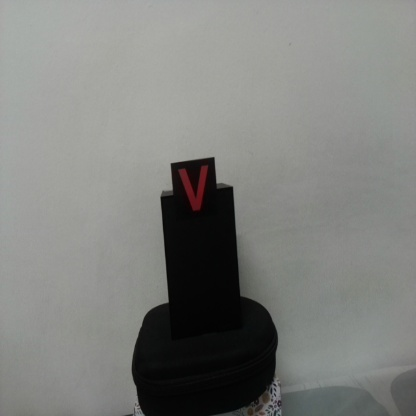id_11: (172, 163, 216, 218)
